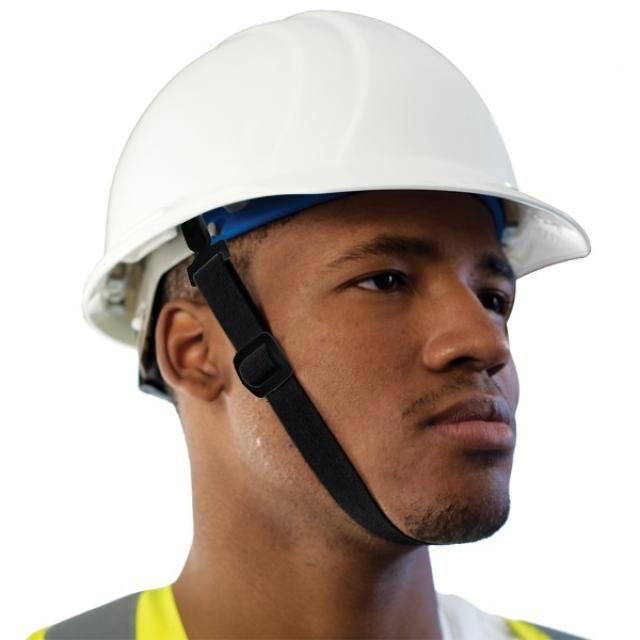illegal_helmet: (67, 0, 606, 571)
